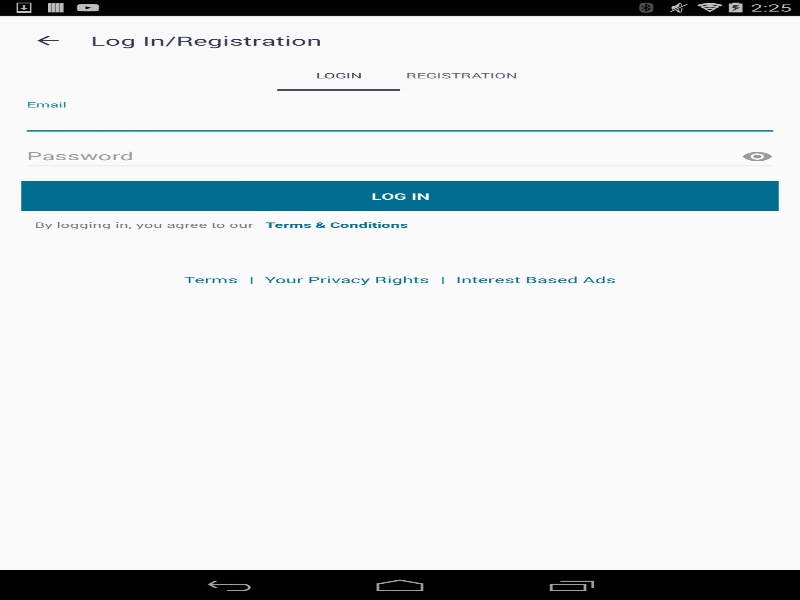Button: (21, 181, 778, 211), (264, 213, 407, 236), (10, 20, 85, 60), (736, 142, 778, 170)
Input: (21, 142, 778, 171), (21, 107, 778, 135)
